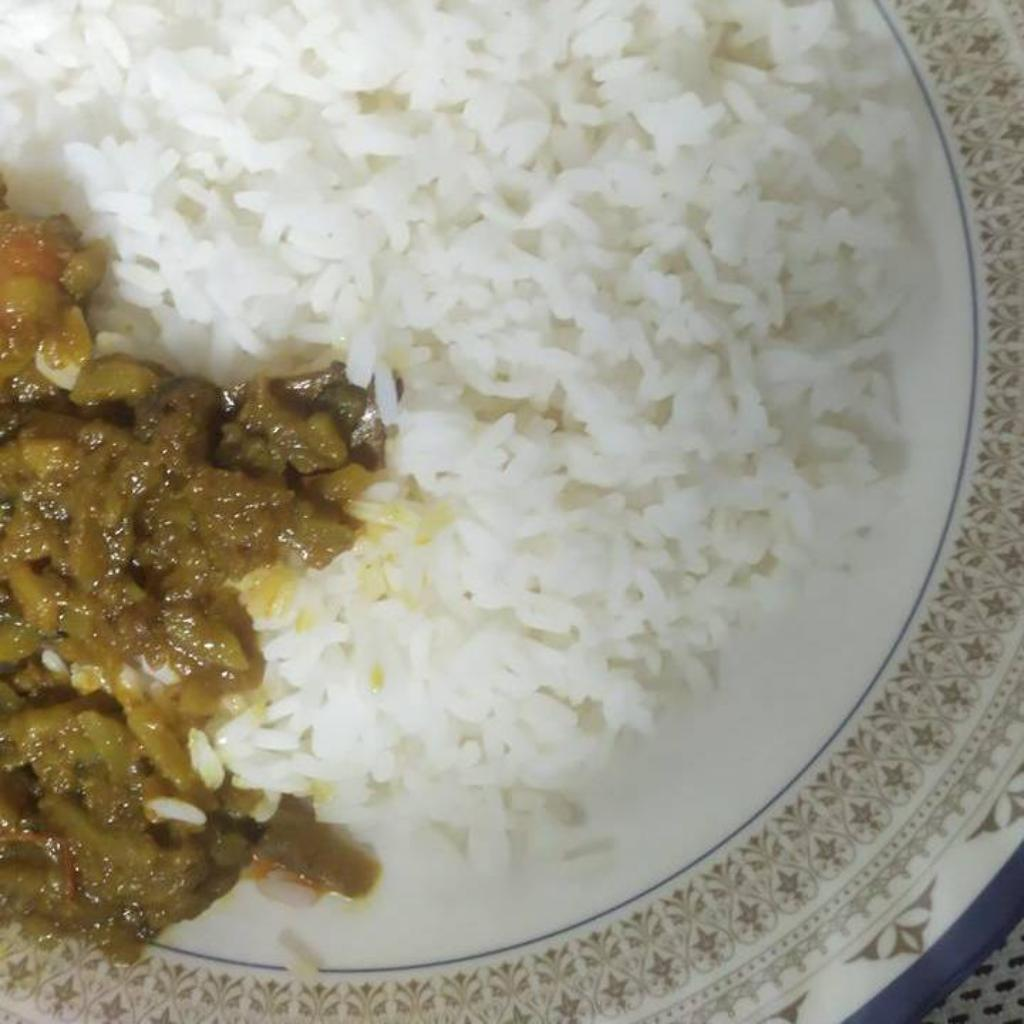achar: (0, 204, 389, 958)
rice: (7, 1, 918, 892)
